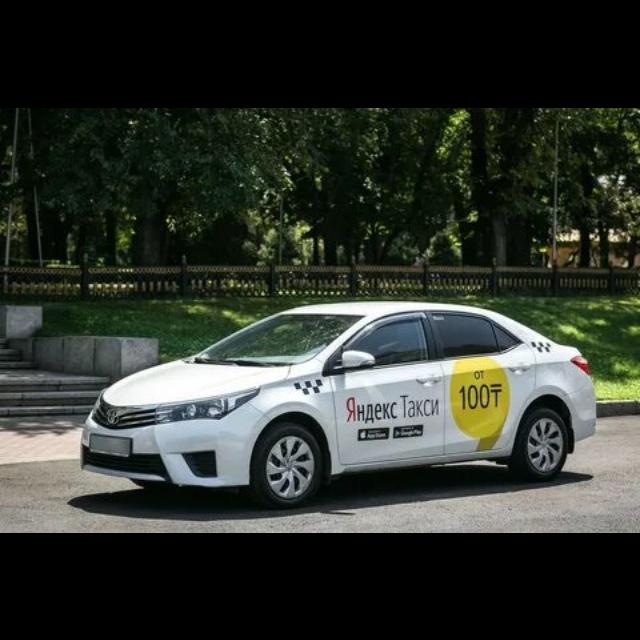taxi: (80, 299, 598, 509)
